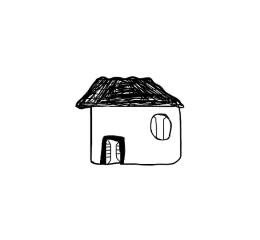door: (99, 131, 132, 170)
open_window: (146, 108, 173, 143)
shaded_roof: (68, 68, 186, 112)
small_house: (1, 2, 260, 238)
wall: (85, 101, 186, 171)
